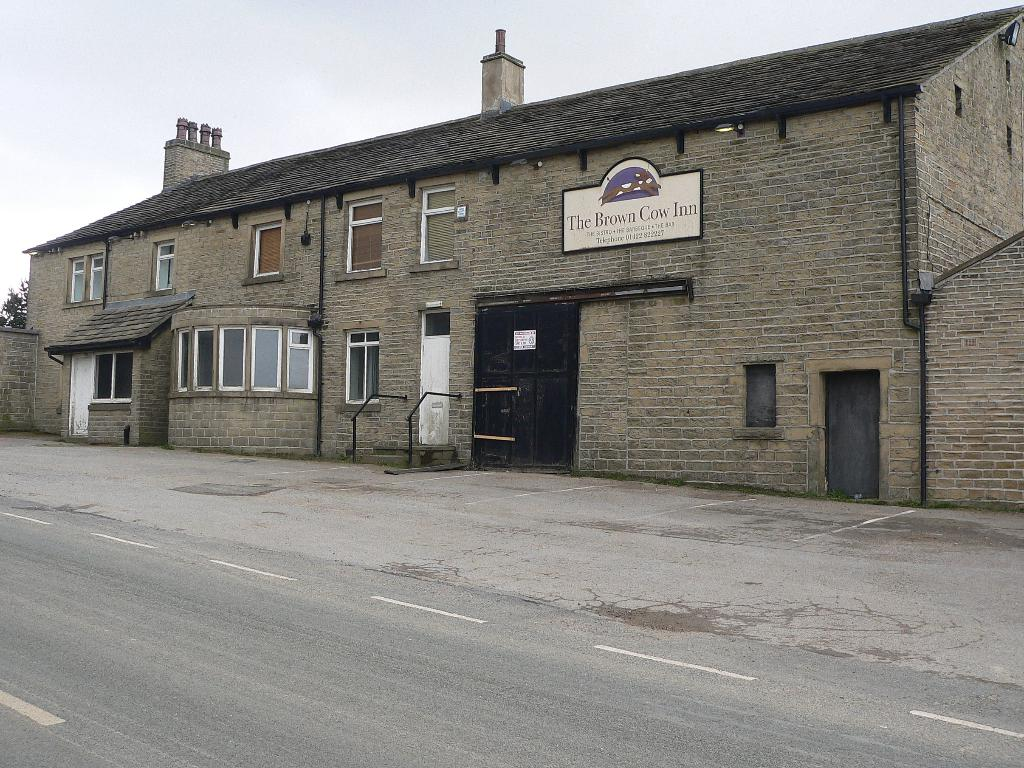Window: (172, 330, 312, 397), (422, 183, 455, 268), (344, 331, 380, 407), (349, 203, 384, 273), (88, 354, 129, 402), (255, 220, 284, 282), (157, 241, 177, 289), (90, 254, 108, 295), (72, 259, 88, 304)
